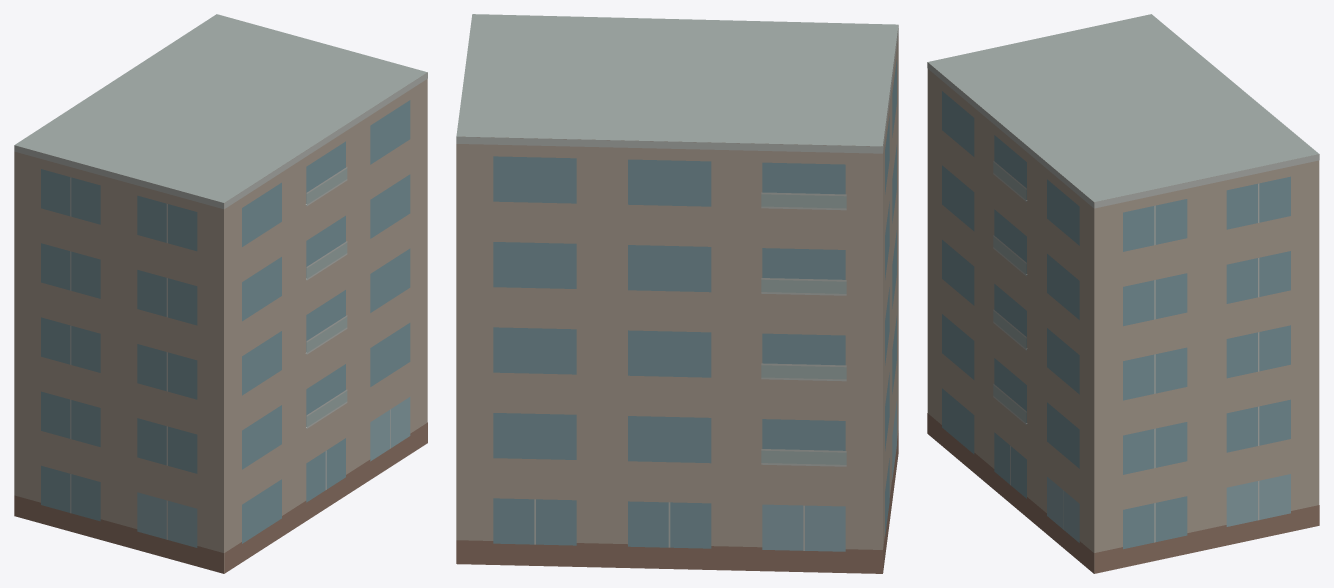
File: survey-upis-32841189.glb
The picture shows the model from 3 angles, left to right: view 1: azimuth 30°, elevation 25°; view 2: azimuth 150°, elevation 25°; view 3: azimuth 270°, elevation 25°; orthographic projection. The views are drawn at different scales.
Visible parts, largest first — view 1: survey-upis-32841189.tmp; view 2: survey-upis-32841189.tmp; view 3: survey-upis-32841189.tmp.
Part boxes in pixels (box(x1,y1,x2,y2)): survey-upis-32841189.tmp: box(14, 14, 427, 573); survey-upis-32841189.tmp: box(456, 14, 898, 573); survey-upis-32841189.tmp: box(927, 14, 1319, 573).
Bounding box in the file's own units: 15.54 × 14.3 × 13.68.
